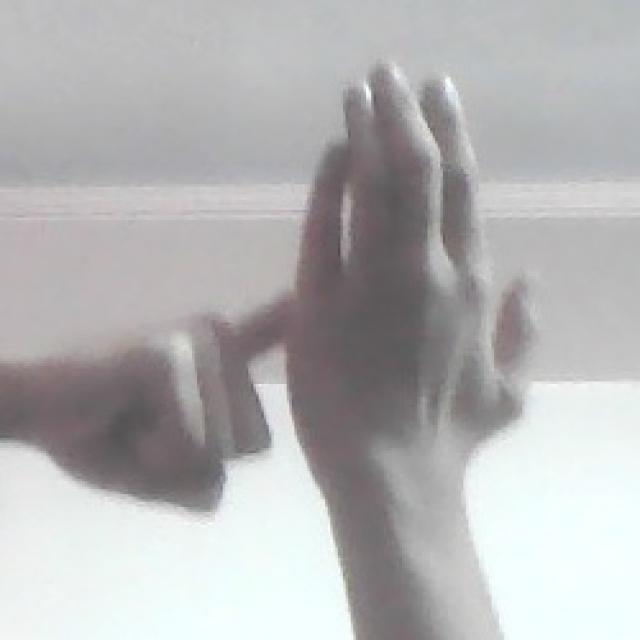Alphabet-R: (45, 49, 588, 554)
